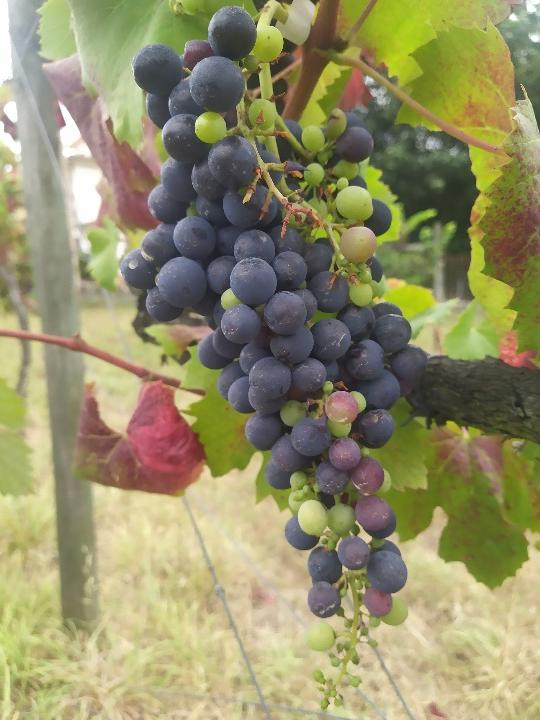grape: (116, 3, 429, 709)
